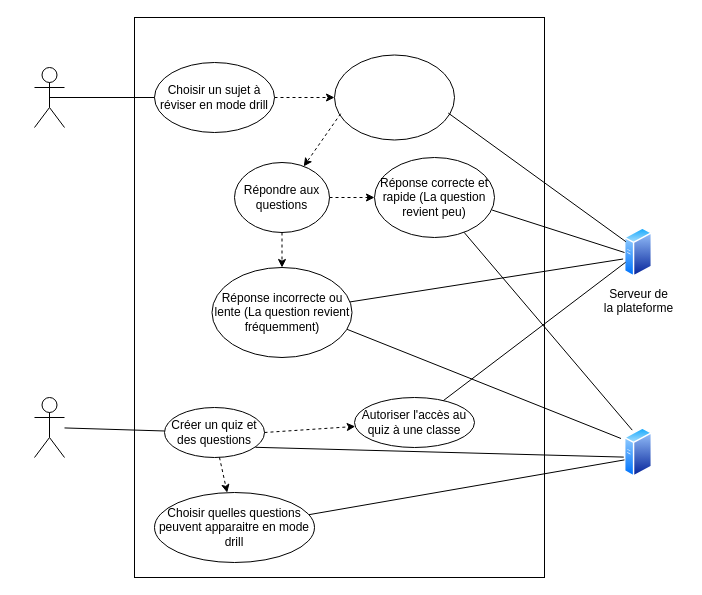
The diagram is 702 pixels wide and 595 high, and some of its shapes have lost their labels. Here are the shapes that lost their labels. From the top down, the box of each, then its label:
(34, 66, 64, 128): Etudiants
(334, 54, 454, 140): Choix de questions en fonction de l'étudiant et de ses accès
(34, 396, 64, 458): Professeurs
(624, 427, 652, 477): Base de données
